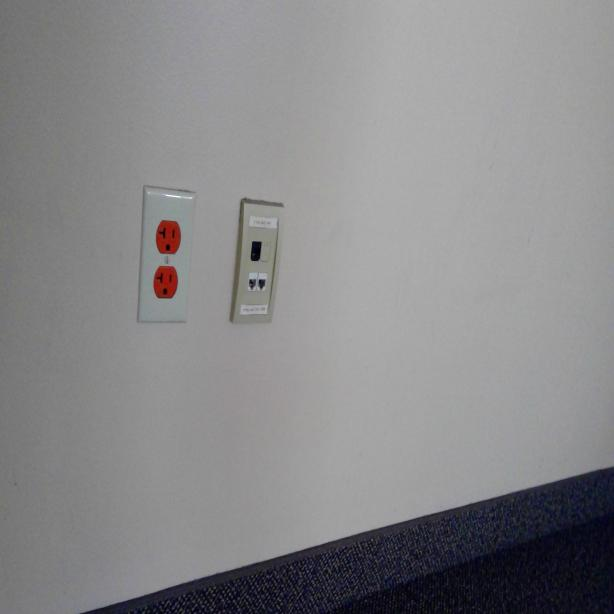typeb: (156, 218, 182, 258), (153, 266, 178, 303)
